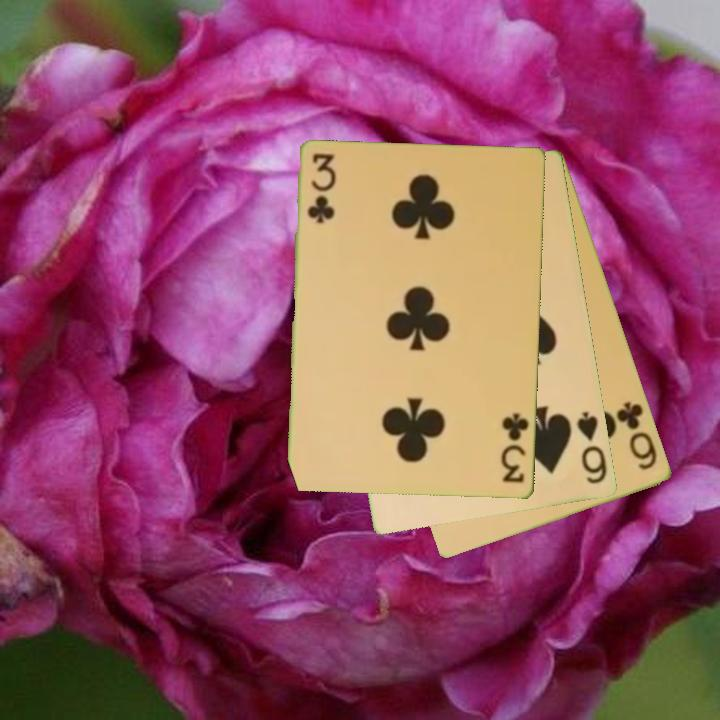3c: (498, 410, 532, 486), (304, 150, 336, 227)
6c: (613, 398, 661, 473)
6s: (574, 408, 610, 487)
